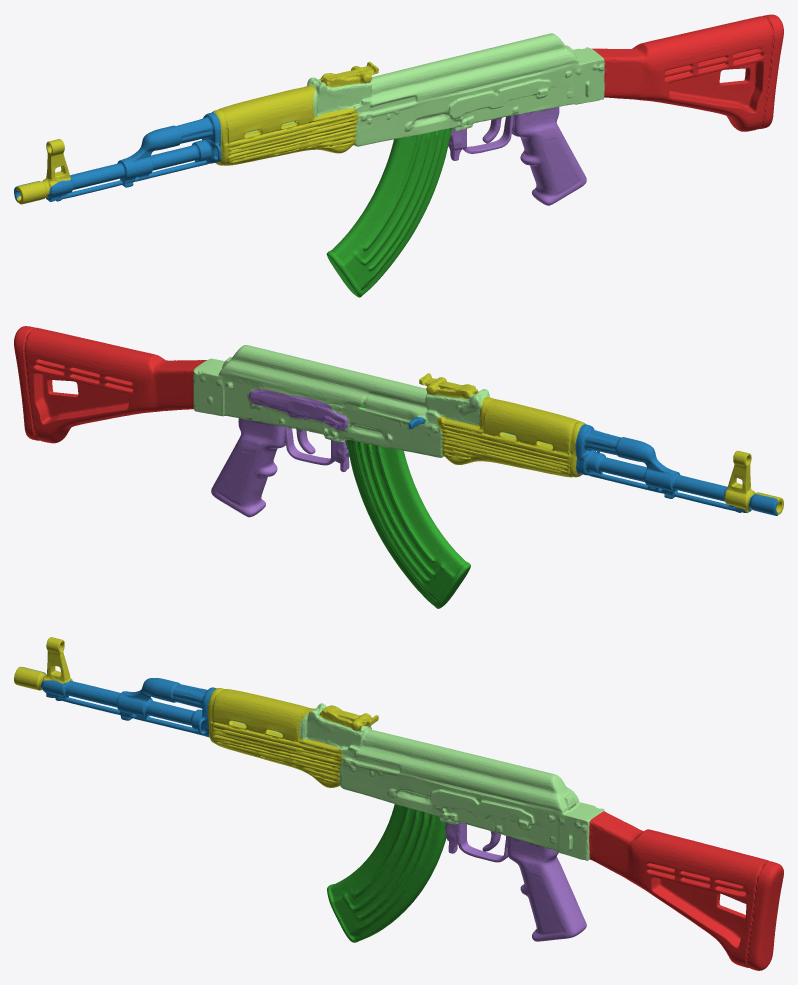
The picture shows the model from 3 angles, top to bottom: view 1: azimuth 30°, elevation 25°; view 2: azimuth 150°, elevation 25°; view 3: azimuth 330°, elevation 25°; orthographic projection.
Visible parts, largest first — view 1: model_part16, model_part9, model_part15, model_part0, model_part14, model_part13, model_part12, model_part4; view 2: model_part16, model_part9, model_part15, model_part0, model_part13, model_part14, model_part7, model_part12, model_part4; view 3: model_part16, model_part9, model_part15, model_part0, model_part13, model_part14, model_part12, model_part4.
Boxes of the visible parts, bbox=[...] form: model_part16: bbox=[307, 33, 604, 146]; model_part9: bbox=[592, 14, 783, 131]; model_part15: bbox=[326, 128, 452, 297]; model_part0: bbox=[212, 85, 358, 165]; model_part14: bbox=[46, 112, 221, 201]; model_part13: bbox=[448, 106, 586, 205]; model_part12: bbox=[16, 139, 70, 204]; model_part4: bbox=[320, 61, 378, 87]; model_part16: bbox=[193, 345, 489, 457]; model_part9: bbox=[14, 326, 206, 443]; model_part15: bbox=[345, 439, 470, 608]; model_part0: bbox=[437, 396, 586, 477]; model_part13: bbox=[211, 418, 349, 517]; model_part14: bbox=[575, 424, 751, 512]; model_part7: bbox=[248, 389, 348, 430]; model_part12: bbox=[724, 450, 783, 514]; model_part4: bbox=[419, 373, 478, 398]; model_part16: bbox=[299, 703, 604, 860]; model_part9: bbox=[589, 811, 783, 970]; model_part15: bbox=[327, 804, 446, 942]; model_part0: bbox=[208, 688, 342, 787]; model_part13: bbox=[445, 822, 586, 941]; model_part14: bbox=[41, 678, 216, 737]; model_part12: bbox=[14, 637, 72, 690]; model_part4: bbox=[319, 705, 378, 730].
Size of the model in its own units: 0.12 by 0.0345 by 0.00828.
